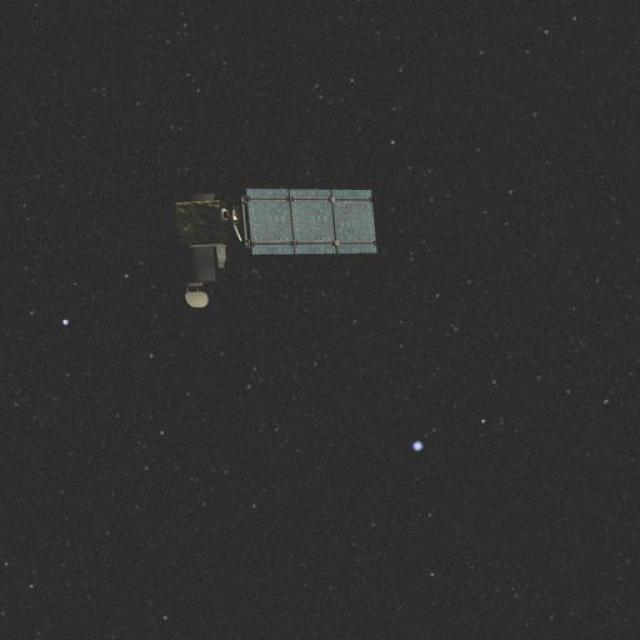earth_observation_sat_1: (150, 174, 396, 322)
